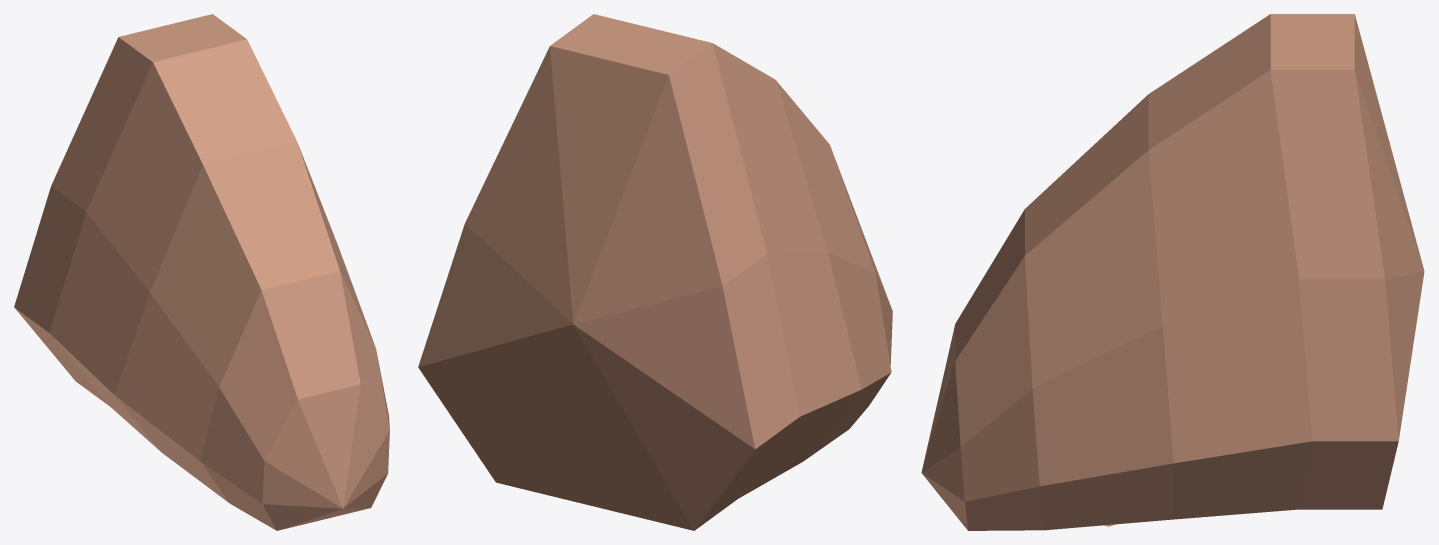
File: nose_dw_hawk.glb
The picture shows the model from 3 angles, left to right: view 1: azimuth 30°, elevation 25°; view 2: azimuth 150°, elevation 25°; view 3: azimuth 270°, elevation 25°; orthographic projection. The views are drawn at different scales.
Parts seen in each view (by area): view 1: Snout; view 2: Snout; view 3: Snout.
Part boxes in pixels (x1,y1,x2,y2): Snout: [14, 14, 389, 530]; Snout: [418, 14, 892, 530]; Snout: [921, 14, 1424, 530].
Size of the model in its own units: 0.034 by 0.046 by 0.0455.
1 material, 1 textured.
